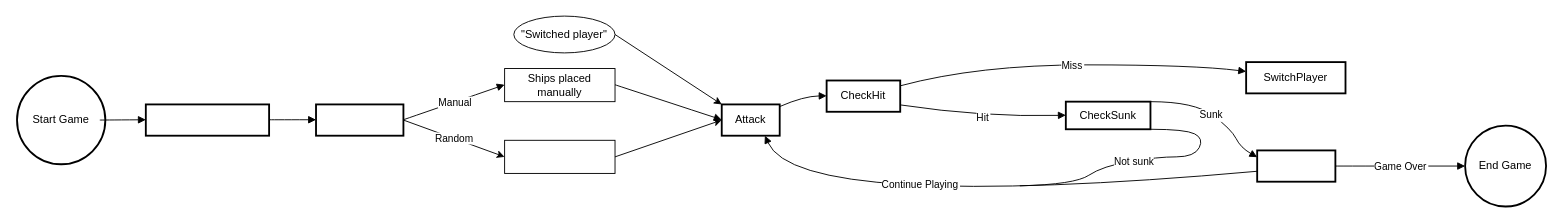
Some shapes in this 1562 by 224 pixel diagram are drawn without their labels. The box of each missing label's shape, as (x1, y1, x2, y2) in pixels:
CheckWin: (1256, 149, 1336, 182)
Place Ships: (315, 103, 404, 136)
Select Difficulty: (144, 103, 270, 136)
Ships placed randomly: (504, 139, 615, 173)
